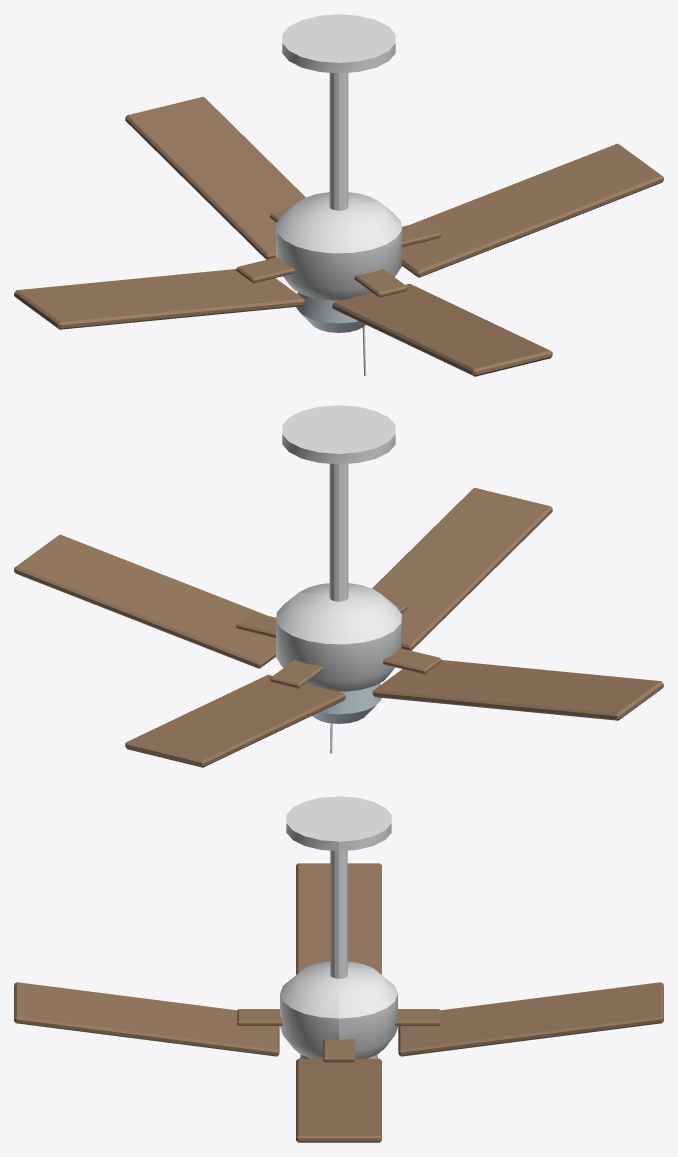
The model's file is police-station-and-detective-office-ceiling-fan-22104427__29989.glb.
3 views of the same model, one above another, from view 1: azimuth 30°, elevation 25°; view 2: azimuth 150°, elevation 25°; view 3: azimuth 270°, elevation 25° (orthographic). The views are drawn at different scales.
Parts seen in each view (by area): view 1: fan-blades, ceiling-fan; view 2: fan-blades, ceiling-fan; view 3: fan-blades, ceiling-fan.
Part boxes in pixels (bbox=[...]): fan-blades: bbox=[14, 96, 663, 376]; ceiling-fan: bbox=[276, 14, 401, 375]; fan-blades: bbox=[14, 487, 663, 767]; ceiling-fan: bbox=[276, 405, 401, 753]; fan-blades: bbox=[14, 863, 663, 1142]; ceiling-fan: bbox=[280, 796, 397, 1058].
Bounding box in the file's own units: 1.21 × 0.64 × 1.21.
